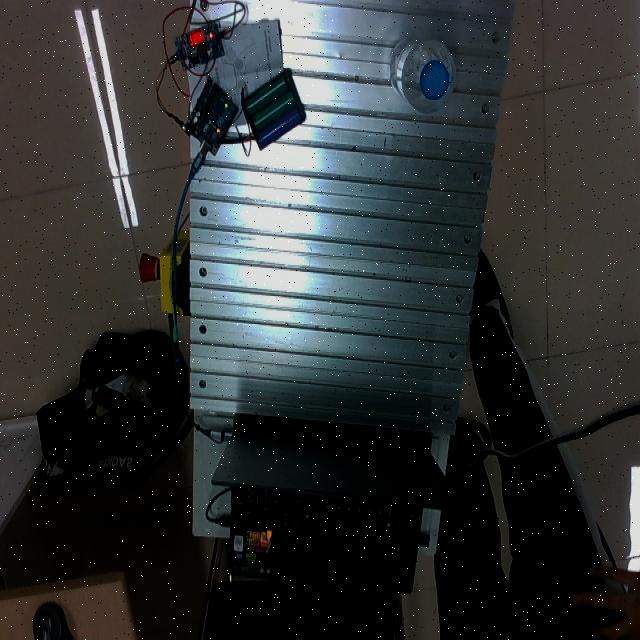lavie: (389, 36, 456, 116)
